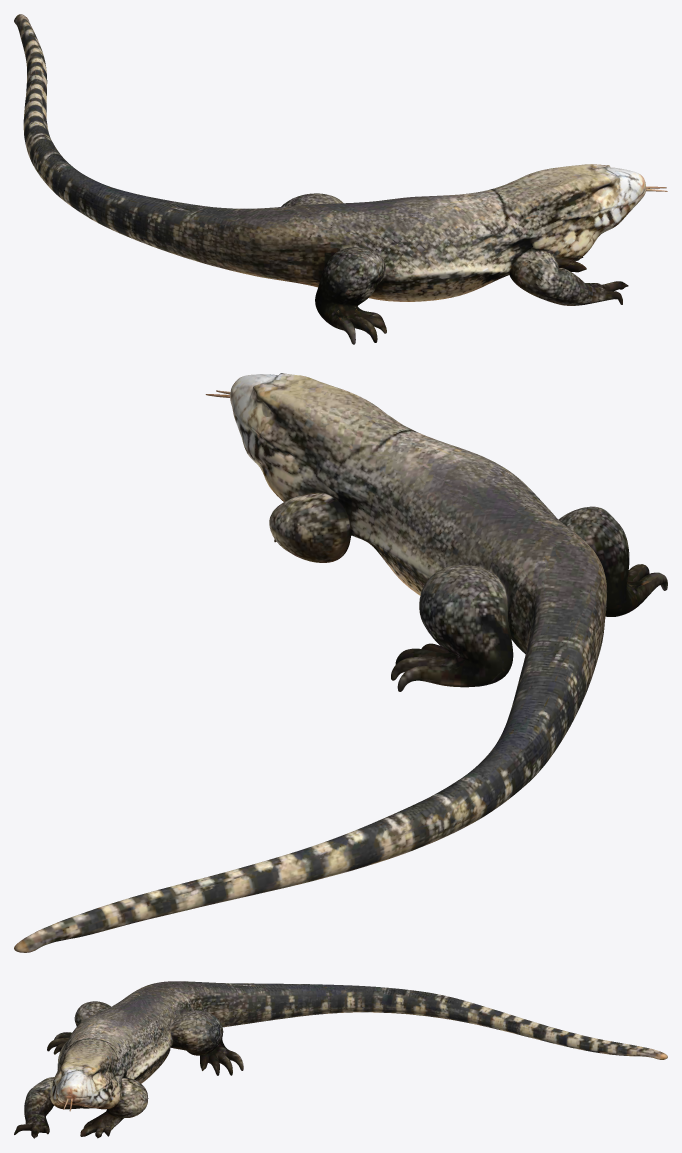
File: lagarto.glb
3 renders of one model, top to bottom at view 1: azimuth 30°, elevation 25°; view 2: azimuth 150°, elevation 25°; view 3: azimuth 270°, elevation 25°, orthographic. The views are drawn at different scales.
Parts seen in each view (by area): view 1: convert; view 2: convert; view 3: convert.
Boxes of the visible parts, x1,y1,x2,y2 form: convert: [14, 14, 667, 344]; convert: [14, 373, 667, 952]; convert: [14, 981, 667, 1138].
Size of the model in its own units: 0.6224 by 0.1475 by 1.13.
Materials: 1 (1 with a texture image).
